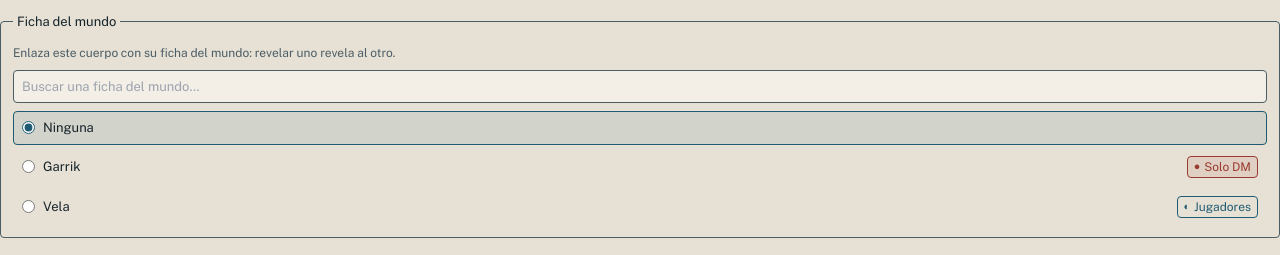
Test: SelectorDeFichaDelMundo › escribir en el buscador deja solo lo que coincide
The image size is (1280, 255).
Type "ve" into the search field labelled "Buscar una ficha del mundo" at x=640, y=86, box [13, 70, 1267, 103]
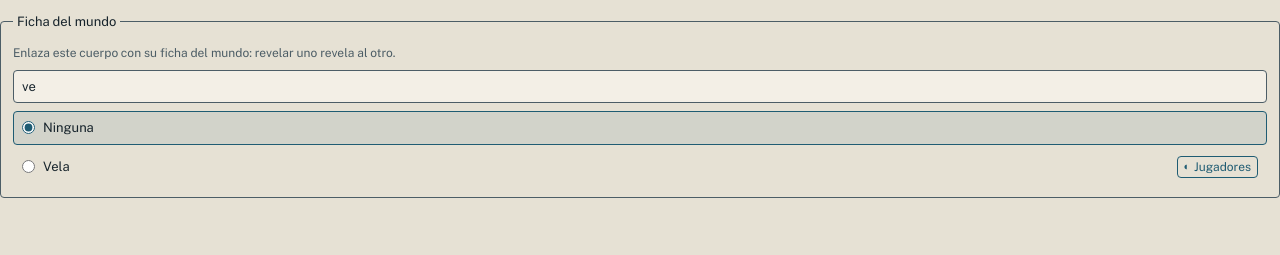
Expected: the text "Vela" is shown, [43, 159, 70, 174]
Now the text "Garrik" is gone
